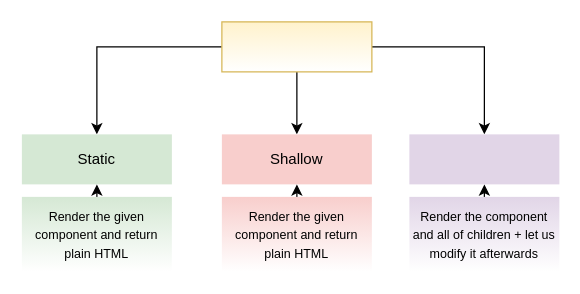
Image size: 580x294. Some labels were removed from this diagram. Here are the shapes that lost their labels. From the top down, the centre of each, then its label:
the point at 296,46: Enzyme Api
the point at 484,159: Full DOM
